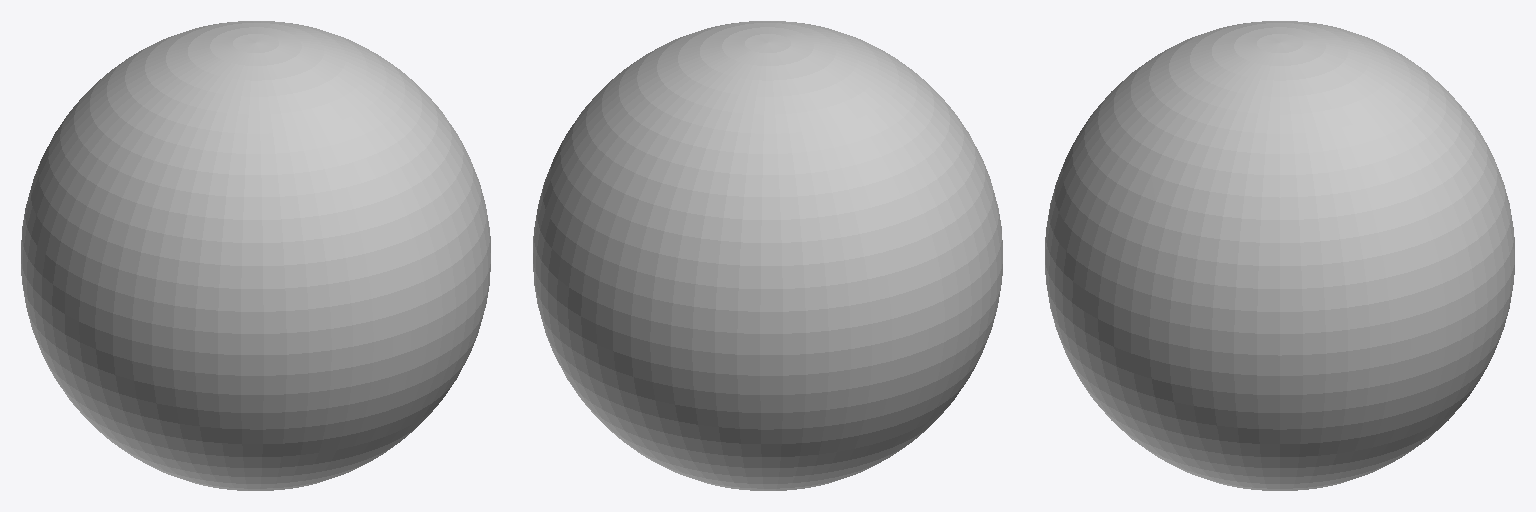
Rendered from sphereTex.obj.
3 views of the same model, side by side, from view 1: azimuth 30°, elevation 25°; view 2: azimuth 150°, elevation 25°; view 3: azimuth 270°, elevation 25° (orthographic).
Bounding box in the file's own units: 4 × 4 × 4.